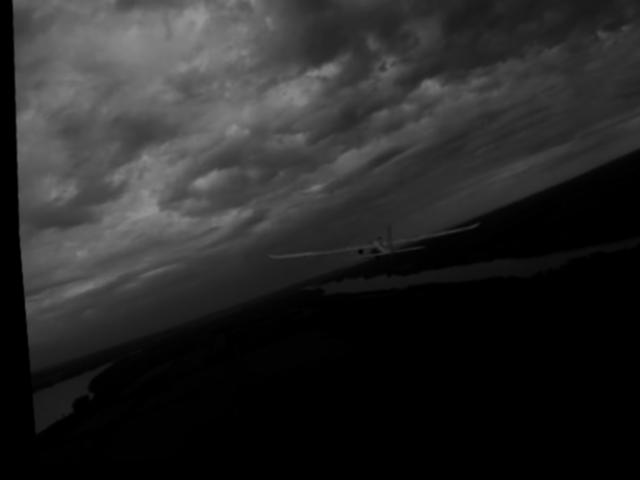hedef: (254, 196, 487, 298)
